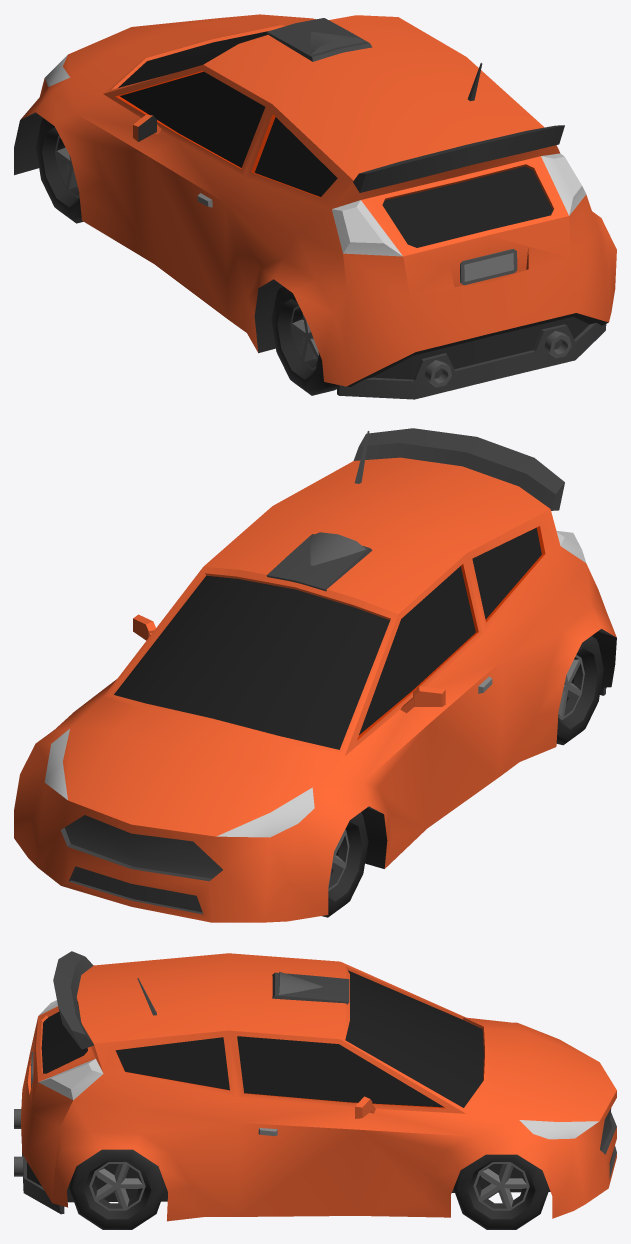
The model's file is rally.obj.
3 renders of one model, top to bottom at view 1: azimuth 30°, elevation 25°; view 2: azimuth 150°, elevation 25°; view 3: azimuth 270°, elevation 25°, orthographic. The views are drawn at different scales.
Parts seen in each view (by area): view 1: rally, wheels.018, wheels.019; view 2: rally, wheels.018, wheels.019; view 3: rally, wheels.041, wheels.040.
Part boxes in pixels (bbox=[...]): rally: bbox=[14, 14, 616, 399]; wheels.018: bbox=[271, 286, 337, 395]; wheels.019: bbox=[36, 118, 83, 223]; rally: bbox=[14, 428, 616, 922]; wheels.018: bbox=[556, 636, 603, 745]; wheels.019: bbox=[322, 812, 368, 917]; rally: bbox=[14, 951, 616, 1221]; wheels.041: bbox=[69, 1149, 165, 1229]; wheels.040: bbox=[453, 1154, 549, 1229].
Bounding box in the file's own units: 1.97 × 1.62 × 4.02.
4 materials, 3 textured.
